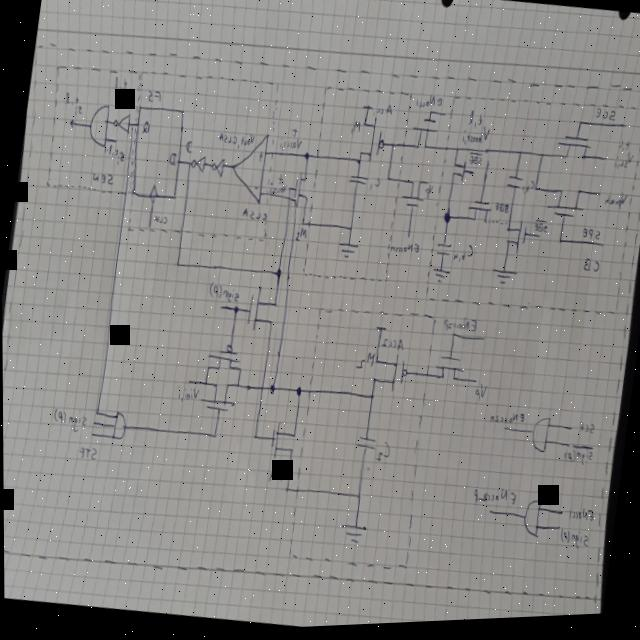capacitor: (504, 178, 524, 199), (356, 437, 377, 456), (347, 176, 369, 193), (435, 244, 453, 261)
crossover: (259, 386, 264, 395), (288, 199, 292, 203)
ground: (339, 523, 368, 549), (491, 268, 520, 294), (336, 239, 360, 264), (430, 266, 453, 290)
junction: (442, 214, 452, 229), (268, 385, 276, 397), (295, 388, 302, 400), (304, 153, 311, 164), (355, 495, 362, 505), (517, 153, 524, 162), (540, 155, 547, 164), (232, 307, 239, 316), (212, 432, 218, 442), (369, 395, 375, 405), (357, 159, 363, 169), (557, 241, 563, 250), (450, 335, 457, 342), (253, 435, 258, 443), (277, 271, 282, 279), (237, 368, 242, 376), (456, 149, 461, 157), (284, 488, 289, 495), (348, 228, 353, 235), (176, 262, 181, 269), (443, 115, 448, 122), (301, 222, 306, 229), (186, 380, 191, 387), (206, 366, 211, 373), (235, 384, 240, 390), (534, 191, 539, 197), (363, 125, 368, 131), (288, 188, 293, 194), (293, 200, 298, 206), (429, 113, 434, 119), (131, 122, 135, 129), (387, 178, 391, 183), (95, 410, 99, 415), (188, 163, 192, 167), (205, 383, 208, 387)
source: (373, 323, 391, 338), (362, 105, 375, 114)
terminal: (68, 118, 78, 132), (219, 306, 226, 317), (484, 162, 491, 170), (559, 513, 564, 522), (622, 128, 628, 135), (470, 173, 475, 181), (564, 446, 569, 454), (536, 238, 542, 244), (568, 430, 573, 437), (503, 430, 508, 437), (488, 513, 493, 520), (481, 340, 485, 348), (597, 197, 602, 203), (556, 530, 561, 536), (91, 432, 95, 439), (603, 161, 608, 166), (406, 237, 411, 242), (147, 225, 152, 230), (91, 420, 96, 425), (601, 248, 605, 254), (114, 141, 118, 145), (474, 383, 478, 387), (426, 185, 429, 189)
text: (468, 484, 520, 517), (461, 113, 493, 153), (486, 409, 527, 438), (51, 405, 90, 435), (441, 316, 480, 343), (562, 444, 597, 473), (557, 531, 592, 559), (217, 130, 257, 154), (276, 126, 305, 159), (110, 74, 137, 106), (613, 143, 637, 179), (63, 87, 89, 119), (208, 284, 241, 307), (412, 95, 444, 116), (602, 194, 630, 218), (450, 245, 475, 271), (268, 173, 291, 201), (566, 510, 595, 531), (239, 208, 269, 228), (388, 243, 420, 261), (380, 337, 406, 359), (266, 463, 287, 490), (356, 352, 377, 377), (104, 145, 126, 168), (175, 387, 199, 407), (374, 441, 391, 469), (92, 170, 116, 189), (580, 229, 604, 248), (581, 260, 602, 281), (594, 111, 618, 129), (77, 445, 99, 463), (373, 105, 395, 123), (532, 221, 550, 240), (467, 154, 485, 172), (474, 388, 489, 409), (492, 204, 510, 220), (521, 182, 535, 202), (147, 89, 163, 106), (578, 425, 596, 440), (294, 228, 308, 247), (368, 179, 382, 198), (152, 214, 170, 228), (350, 122, 362, 142), (140, 119, 152, 139), (167, 150, 177, 170), (424, 186, 434, 204), (184, 140, 194, 156), (256, 151, 265, 166), (251, 184, 260, 196)
transistor: (364, 348, 412, 403), (243, 286, 282, 342), (264, 419, 301, 468), (544, 188, 586, 228), (554, 135, 594, 174), (205, 341, 247, 378), (200, 381, 238, 420), (432, 353, 468, 391), (409, 118, 441, 158), (503, 221, 530, 260), (289, 171, 314, 212), (464, 200, 494, 234), (365, 124, 389, 163), (401, 180, 426, 215), (450, 161, 469, 191)
